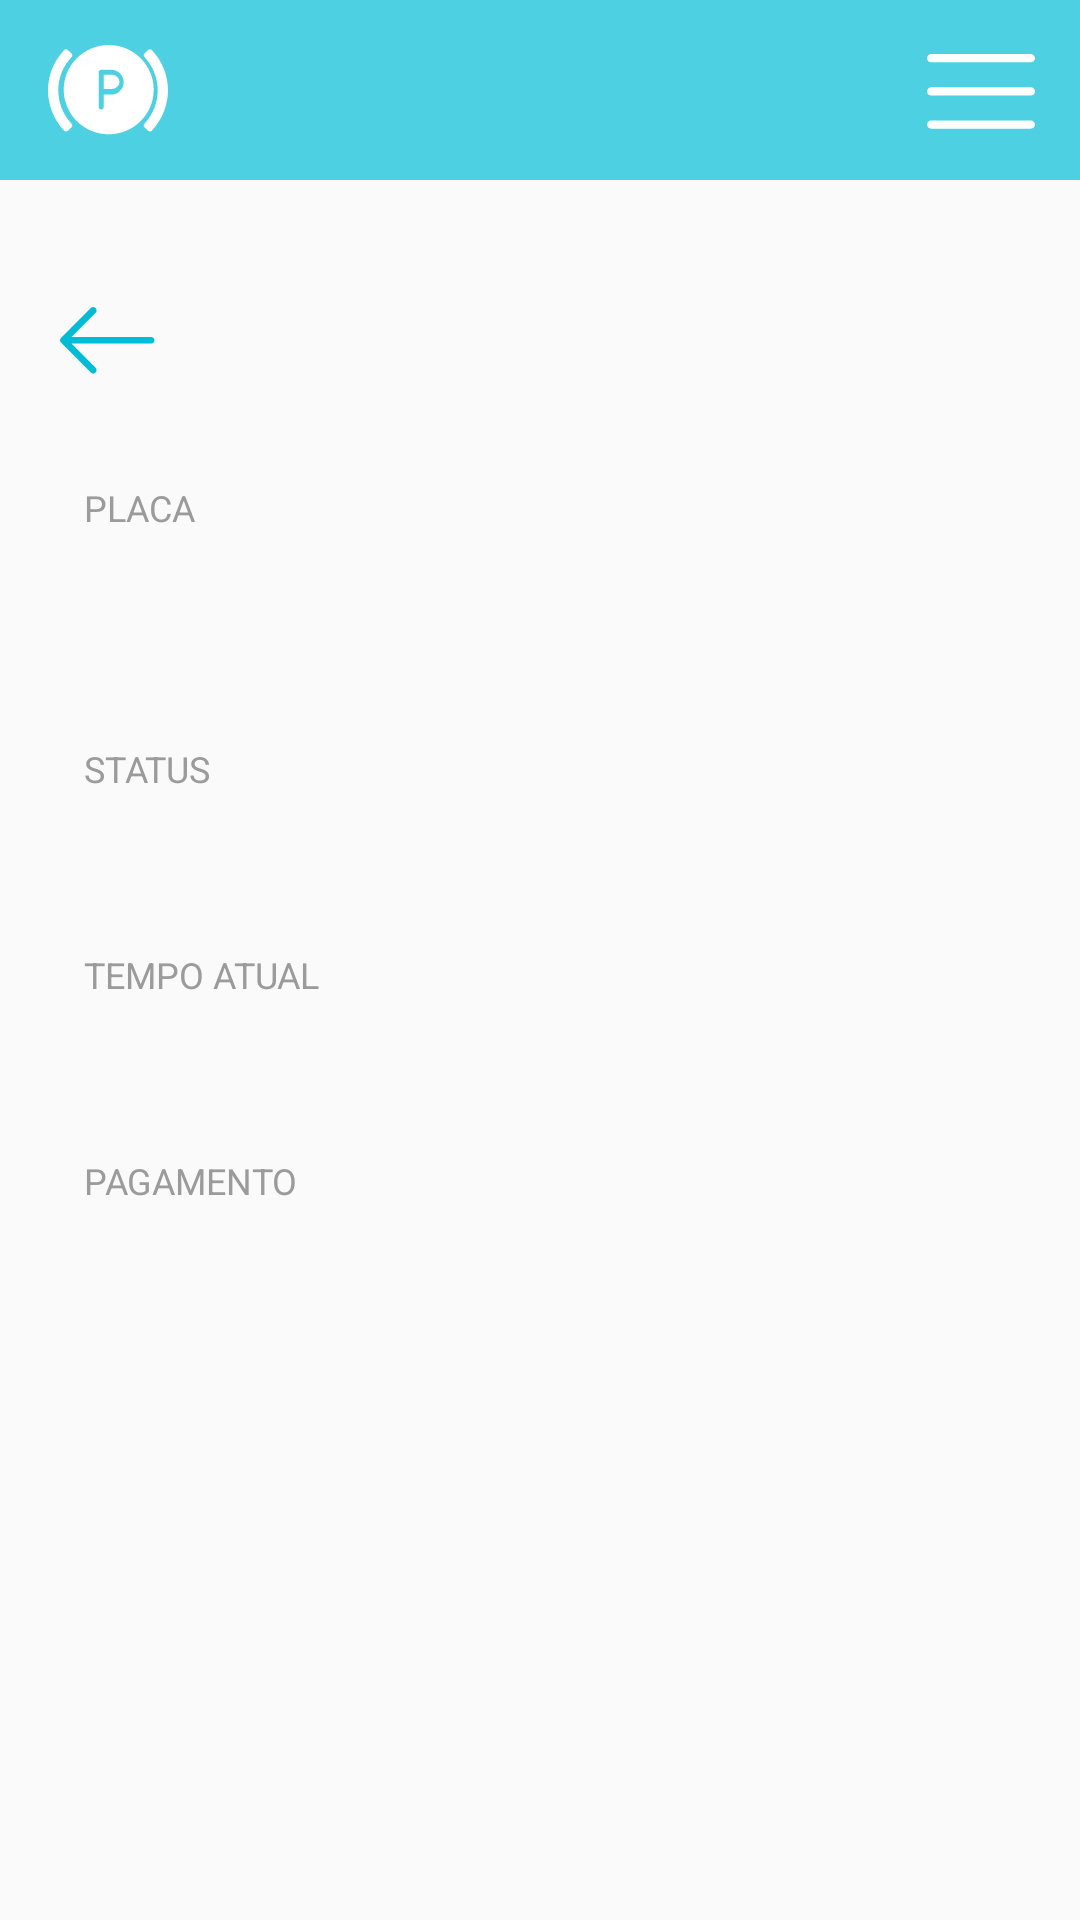

Where to tap for icons on this 1080px×1920px app screen, as [x,y]:
menu: [981,91]
parking: [108,90]
